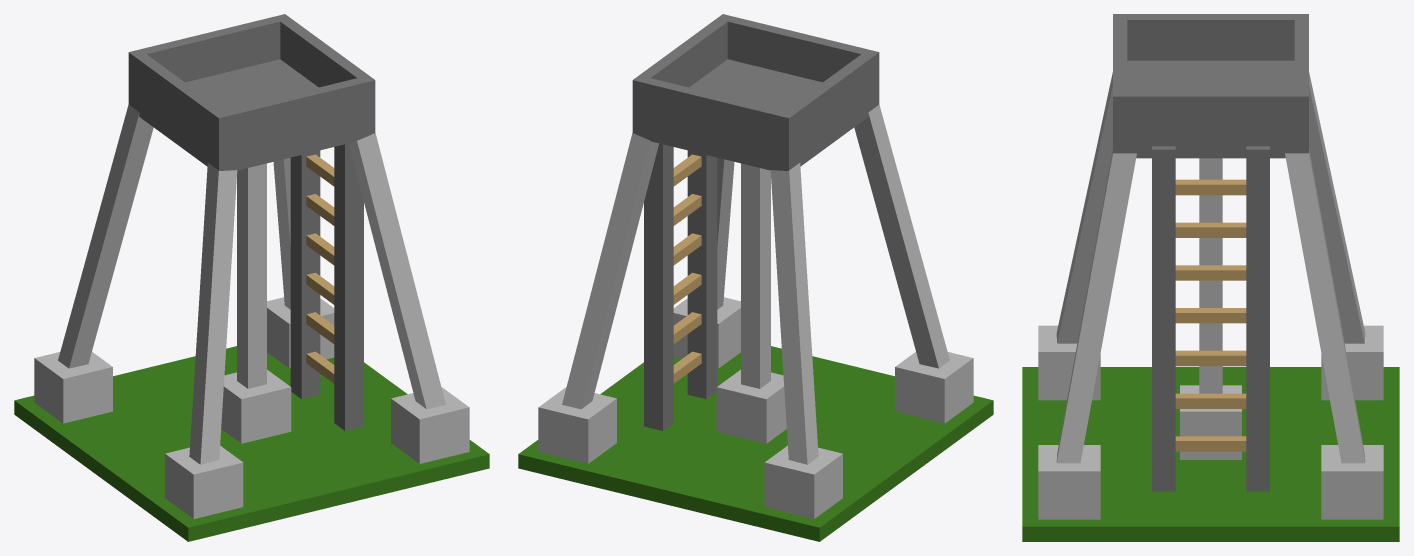
The model's file is lvl13.glb.
3 renders of one model, left to right at view 1: azimuth 30°, elevation 25°; view 2: azimuth 150°, elevation 25°; view 3: azimuth 270°, elevation 25°, orthographic. The views are drawn at different scales.
Visible parts, largest first — view 1: Plane.012; view 2: Plane.012; view 3: Plane.012.
Boxes of the visible parts, x1=… form: Plane.012: x1=14, y1=14, x2=489, y2=541; Plane.012: x1=518, y1=14, x2=993, y2=541; Plane.012: x1=1022, y1=14, x2=1399, y2=541.
Bounding box in the file's own units: 4 × 4.76 × 4.
